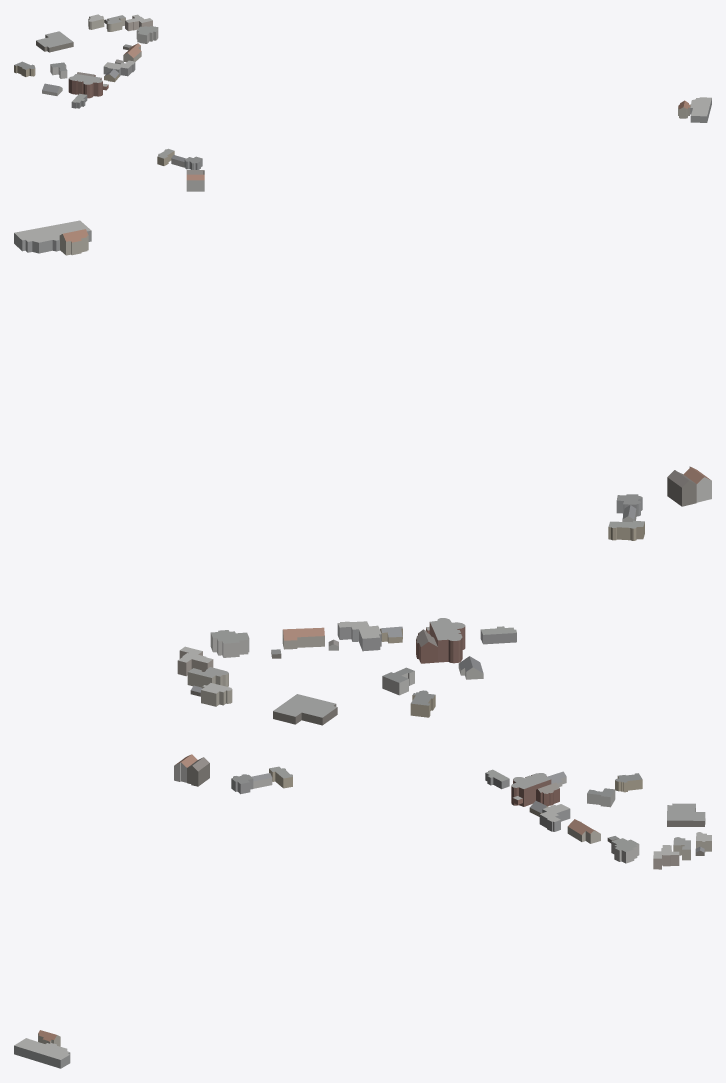
The picture shows the model from 3 angles, top to bottom: view 1: azimuth 30°, elevation 25°; view 2: azimuth 150°, elevation 25°; view 3: azimuth 270°, elevation 25°; orthographic projection. The views are drawn at different scales.
Visible parts, largest first — view 1: way/186825540, way/121391495, way/272708090, way/186814878, way/186814885, way/377153740, way/186814884; view 2: way/121391495, way/272708090, way/186825540, way/186814885, way/186814878, way/186814874, way/377153693; view 3: way/272708090, way/186825540, way/121391495, way/186814885, way/186814878, way/377153693, way/186814874, way/186814884.
Boxes of the visible parts, box(x1,y1,x2,y2) form: way/186825540: box(68, 74, 102, 98); way/121391495: box(36, 31, 73, 52); way/272708090: box(690, 97, 711, 122); way/186814878: box(136, 26, 158, 43); way/186814885: box(103, 60, 135, 76); way/377153740: box(186, 174, 204, 191); way/186814884: box(125, 14, 152, 31); way/121391495: box(273, 694, 337, 725); way/272708090: box(14, 220, 91, 253); way/186825540: box(429, 618, 465, 663); way/186814885: box(337, 621, 381, 651); way/186814878: box(210, 630, 249, 657); way/186814874: box(282, 627, 324, 649); way/377153693: box(667, 470, 696, 506); way/272708090: box(14, 1038, 70, 1068); way/186825540: box(511, 773, 551, 806); way/121391495: box(667, 803, 705, 826); way/186814885: box(539, 804, 570, 831); way/186814878: box(611, 838, 639, 863); way/377153693: box(187, 757, 209, 786); way/186814874: box(567, 819, 600, 843); way/186814884: box(653, 845, 679, 869).
Bounding box in the file's own units: 497 × 25.41 × 479.
